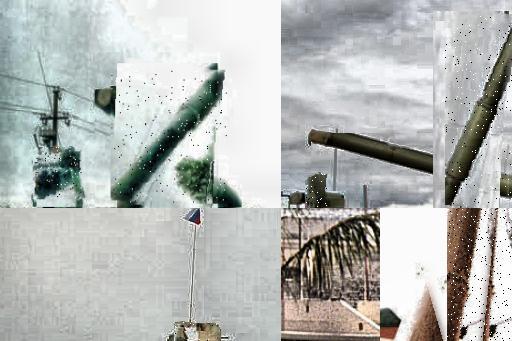tanks: (112, 71, 227, 204), (446, 35, 512, 208), (448, 209, 484, 341), (35, 149, 83, 199), (307, 174, 329, 209), (178, 323, 220, 341)
